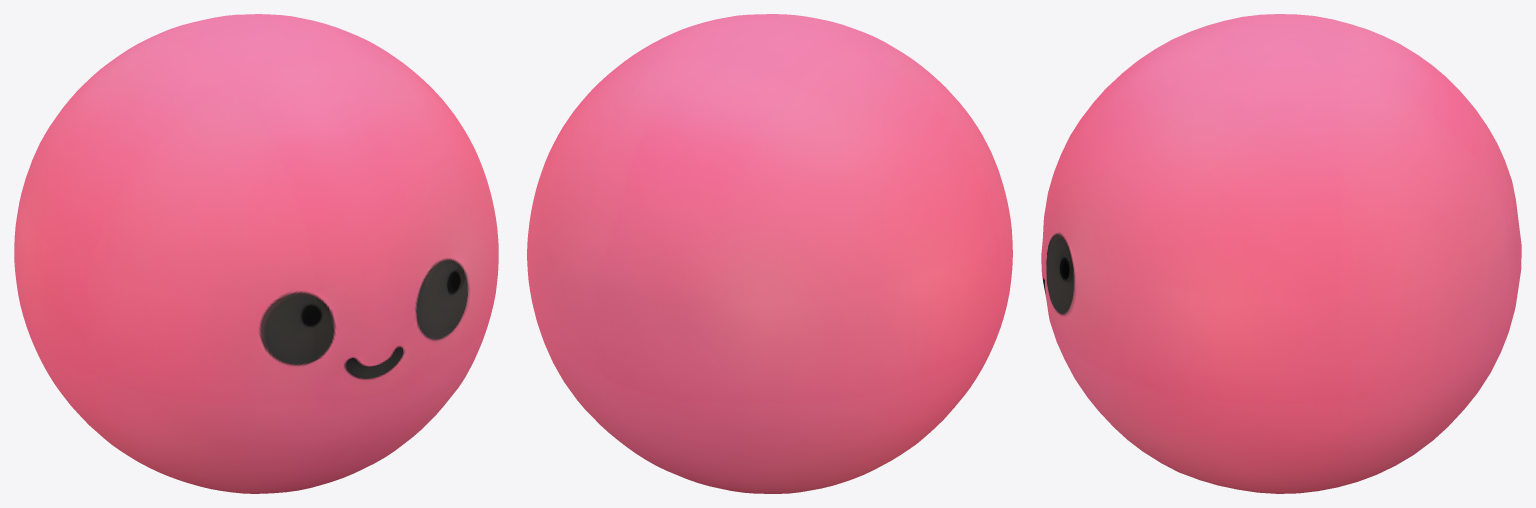
File: lod_basic_shaded.fbx
The picture shows the model from 3 angles, left to right: view 1: azimuth 30°, elevation 25°; view 2: azimuth 150°, elevation 25°; view 3: azimuth 270°, elevation 25°; orthographic projection.
Visible parts, largest first — view 1: model_LOD0; view 2: model_LOD0; view 3: model_LOD0.
Boxes of the visible parts, x1,y1,x2,y2 form: model_LOD0: [14, 14, 498, 493]; model_LOD0: [527, 14, 1012, 493]; model_LOD0: [1041, 14, 1521, 493].
Size of what is drawn, in the model's own units: 183 by 180 by 182.
